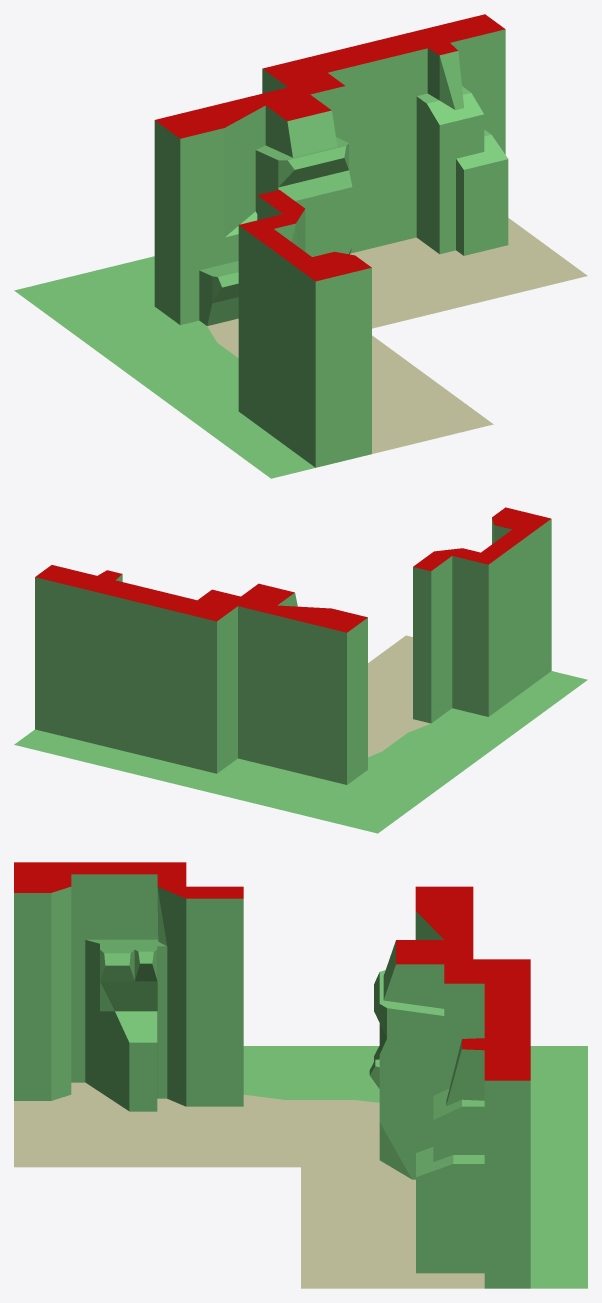
Rendered from x_oo_ground_20_map_c1_1_rmstrd.fbx.
The picture shows the model from 3 angles, top to bottom: view 1: azimuth 30°, elevation 25°; view 2: azimuth 150°, elevation 25°; view 3: azimuth 270°, elevation 25°; orthographic projection. The views are drawn at different scales.
Parts seen in each view (by area): view 1: x_oo_ground_20_map_c1_1_rmstrd1; view 2: x_oo_ground_20_map_c1_1_rmstrd1; view 3: x_oo_ground_20_map_c1_1_rmstrd1.
Part boxes in pixels (left/top/right/bottom): x_oo_ground_20_map_c1_1_rmstrd1: left=14, top=14, right=587, bottom=478; x_oo_ground_20_map_c1_1_rmstrd1: left=14, top=507, right=587, bottom=833; x_oo_ground_20_map_c1_1_rmstrd1: left=14, top=862, right=587, bottom=1288.
Bounding box in the file's own units: 10 × 4 × 10.
